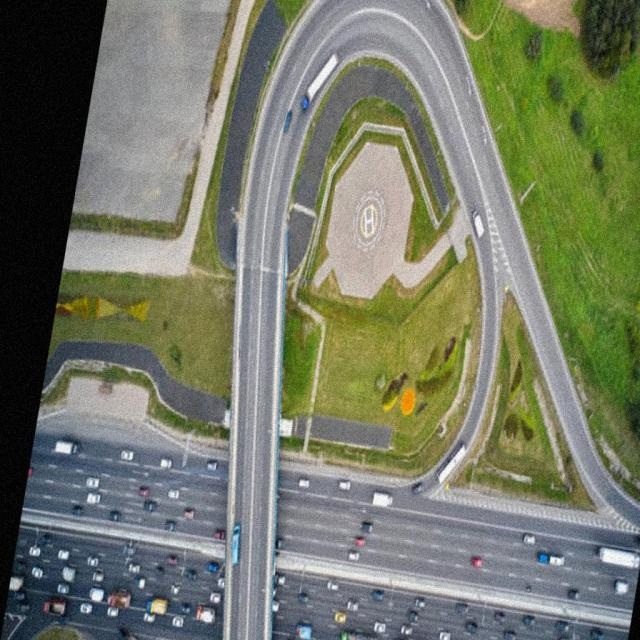helipad: (352, 194, 384, 246)
